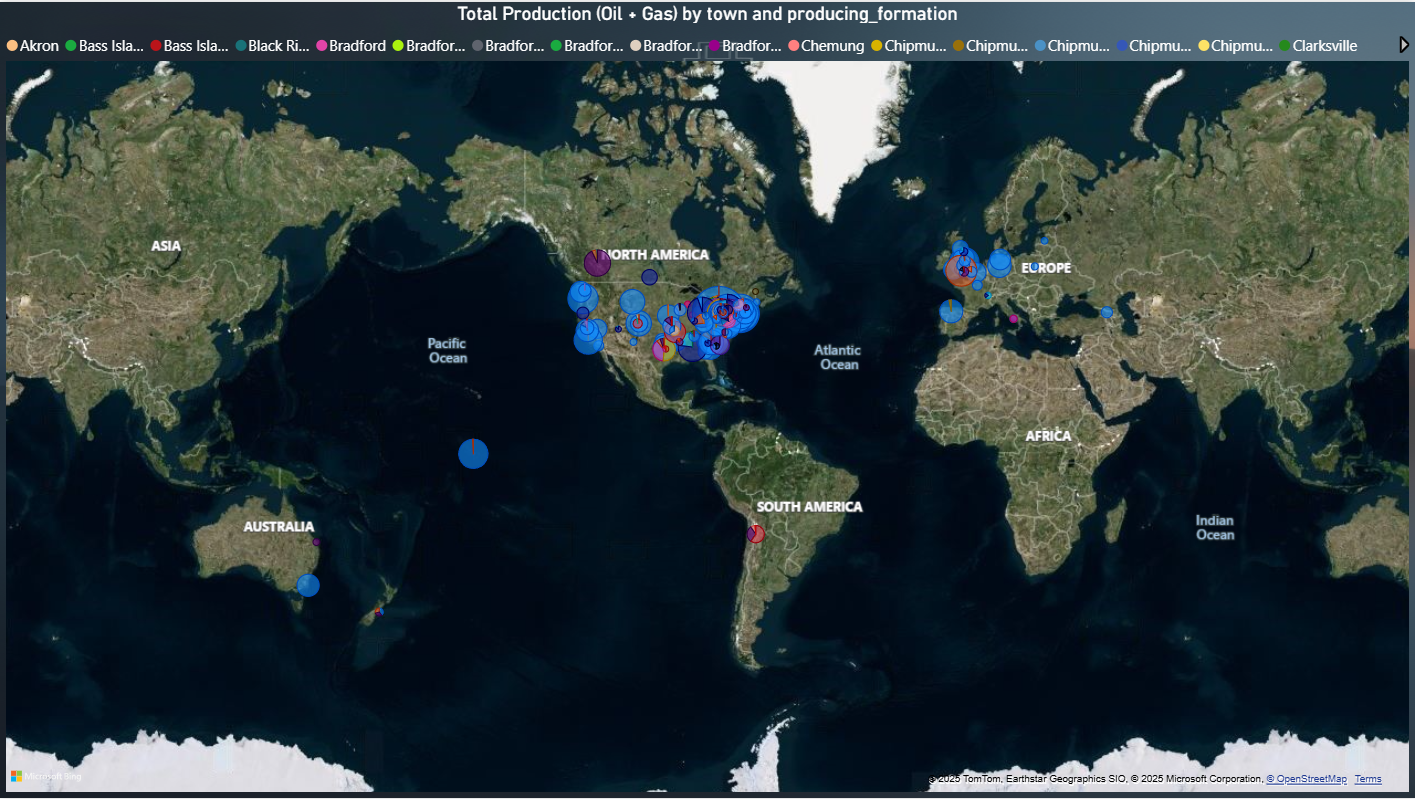

This screenshot's page, from the dashboard's own definition file:
{"tool":"powerbi","page":{"name":"OIL+GAS PROD. BY PRODUCTION FORMATION","canvas":[1280,720],"ordinal":1},"visuals":[{"type":"map","fields":{"Category":["oil and gas production.town"],"Series":["oil and gas production.producing_formation"],"Size":["oil and gas production.Total Production (Oil + Gas)"]},"box":[0,0,1280,720.2],"z":1000}]}

Visuals, with their boxes on the page's 1280x720 design canvas (x1, y1, x2, y2). These are canvas units, not pixel positions in the 1415x799 screenshot, which may show the page scaled, cropped or inside an application window:
map - oil and gas production.town x oil and gas production.producing_formation: box=[0, 0, 1280, 720]
